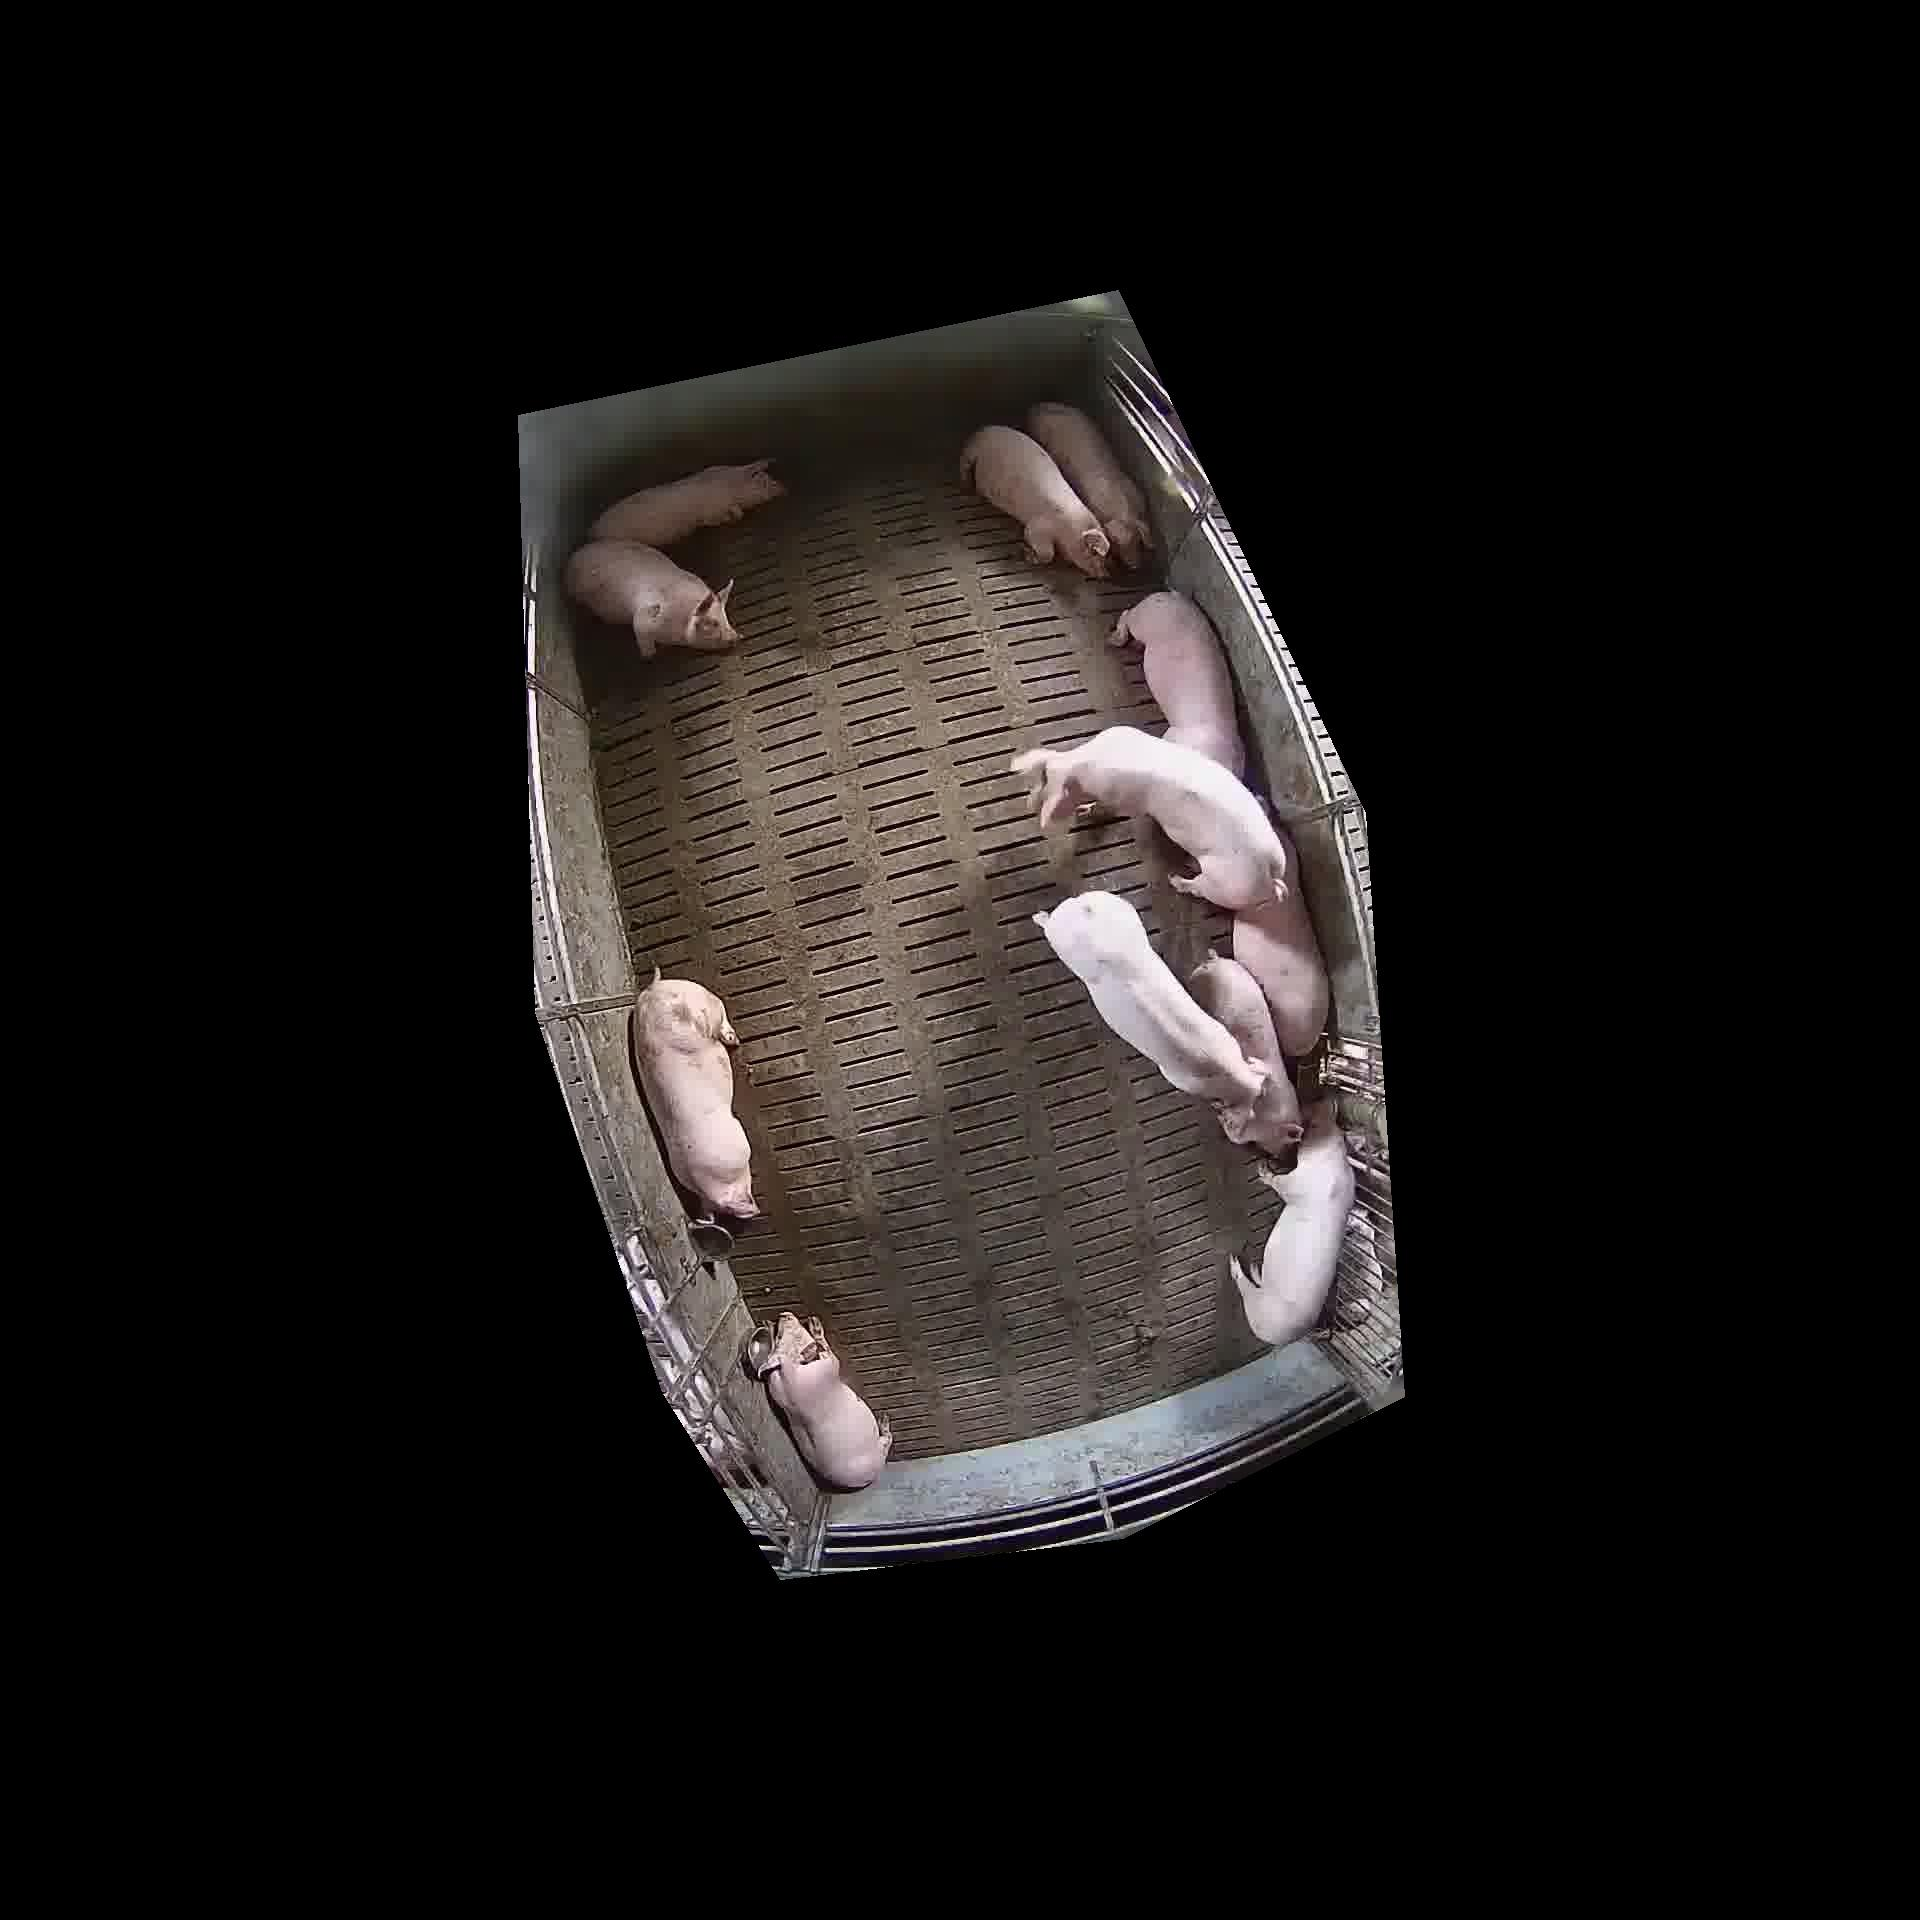pig: (1032, 890, 1273, 1138), (1013, 726, 1287, 911), (633, 978, 758, 1218), (1233, 1101, 1354, 1343), (1109, 591, 1245, 775), (1190, 949, 1303, 1155), (761, 1313, 890, 1487), (962, 425, 1108, 577), (1234, 826, 1329, 1055), (1027, 403, 1150, 566), (564, 540, 737, 656), (591, 461, 784, 547)
